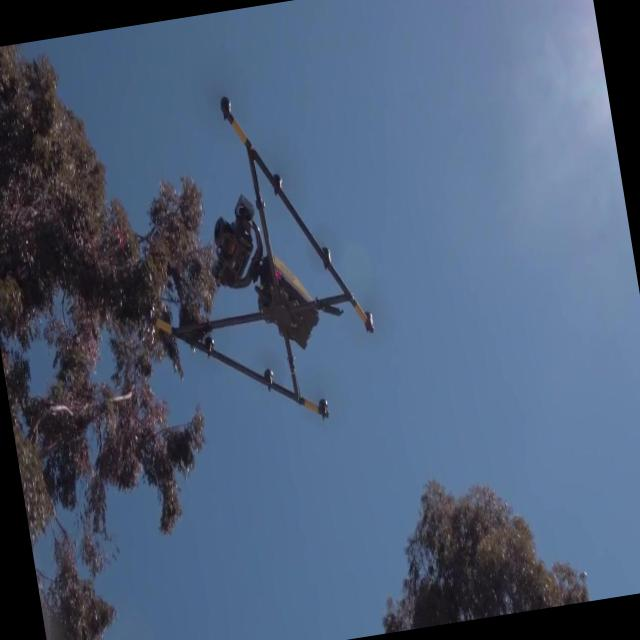drone: (120, 72, 398, 464)
